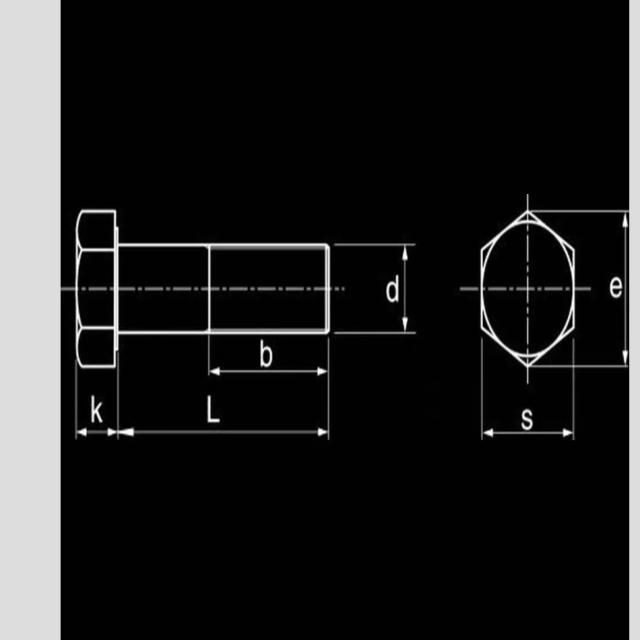marking_line: (119, 430, 326, 437), (209, 366, 325, 378), (486, 425, 572, 440), (623, 217, 629, 365), (401, 247, 411, 330), (77, 427, 117, 439)
